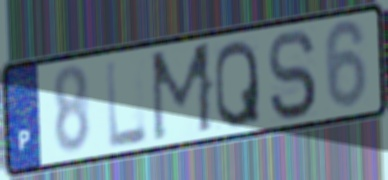6: (321, 16, 372, 115)
8: (50, 62, 92, 159)
L: (103, 56, 150, 152)
M: (148, 38, 216, 146)
Q: (213, 36, 263, 131)
S: (266, 26, 319, 123)
